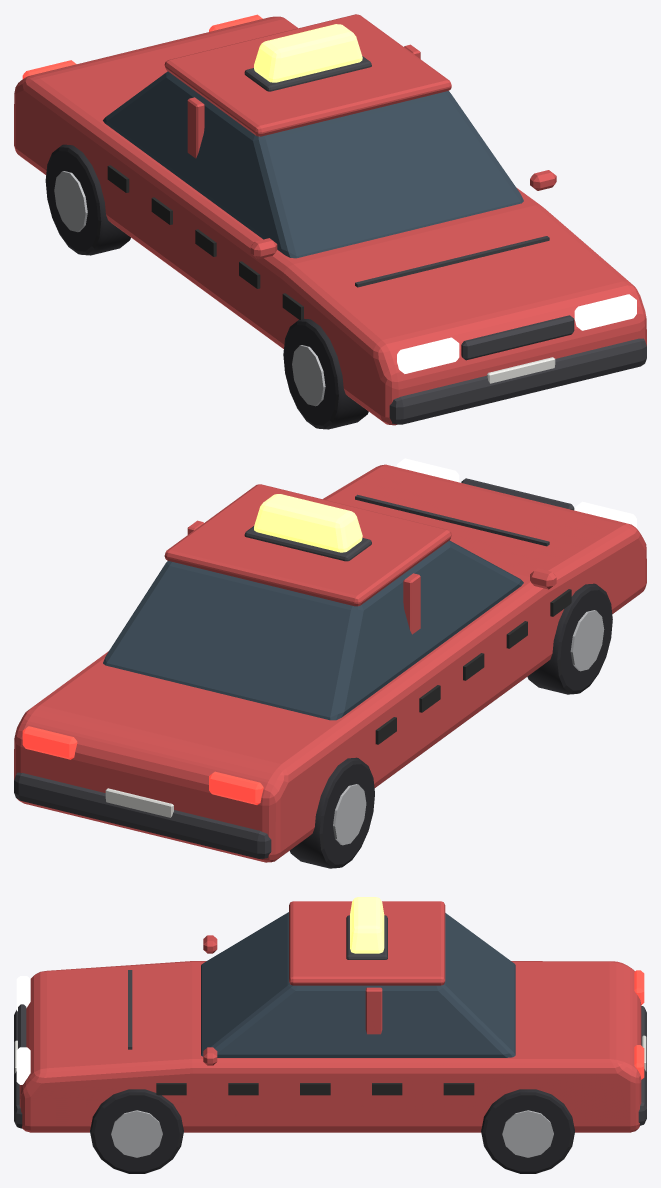
Rendered from taxi.glb.
3 renders of one model, top to bottom at view 1: azimuth 30°, elevation 25°; view 2: azimuth 150°, elevation 25°; view 3: azimuth 270°, elevation 25°, orthographic. The views are drawn at different scales.
Visible parts, largest first — view 1: Body.006, Cabin.003, Roof.003, BumperF.004, TaxiSign, Tyre1L.004, Tyre0L.004, Grille.004, HL-1.004, HL1.004, Rim1L.004, Rim0L.004 (+4 smaller); view 2: Body.006, Cabin.003, Roof.003, BumperR.004, TaxiSign, Tyre1L.004, Tyre0L.004, Rim1L.004, Rim0L.004, TL1.004, TL-1.004, Crease.001 (+6 smaller); view 3: Body.006, Cabin.003, Roof.003, Tyre1R.004, Tyre0R.004, TaxiSign, Rim0R.004, Rim1R.004, PillarB1.003, TaxiSignBase, BumperR.004, HL1.004 (+3 smaller).
Boxes of the visible parts, <box> form: Body.006: <box>14,16,646,425</box>; Cabin.003: <box>103,71,523,258</box>; Roof.003: <box>164,14,451,136</box>; BumperF.004: <box>389,338,646,424</box>; TaxiSign: <box>254,24,362,82</box>; Tyre1L.004: <box>45,144,130,255</box>; Tyre0L.004: <box>283,319,368,429</box>; Grille.004: <box>461,315,574,360</box>; HL-1.004: <box>397,337,459,373</box>; HL1.004: <box>574,294,636,330</box>; Rim1L.004: <box>54,171,87,232</box>; Rim0L.004: <box>292,345,325,406</box>; Body.006: <box>14,464,646,862</box>; Cabin.003: <box>103,540,523,720</box>; Roof.003: <box>164,484,451,606</box>; BumperR.004: <box>14,772,271,858</box>; TaxiSign: <box>254,494,362,552</box>; Tyre1L.004: <box>290,757,374,868</box>; Tyre0L.004: <box>527,583,612,694</box>; Rim1L.004: <box>333,784,366,845</box>; Rim0L.004: <box>570,610,604,671</box>; TL1.004: <box>22,726,77,759</box>; TL-1.004: <box>209,771,263,804</box>; Crease.001: <box>355,494,549,546</box>; Body.006: <box>19,961,641,1132</box>; Cabin.003: <box>201,912,515,1057</box>; Roof.003: <box>289,901,445,985</box>; Tyre1R.004: <box>481,1089,574,1173</box>; Tyre0R.004: <box>90,1089,183,1173</box>; TaxiSign: <box>350,897,384,953</box>; Rim0R.004: <box>111,1110,162,1157</box>; Rim1R.004: <box>502,1110,553,1157</box>; PillarB1.003: <box>365,987,382,1034</box>; TaxiSignBase: <box>346,915,387,959</box>; BumperR.004: <box>638,1006,646,1125</box>; HL1.004: <box>16,1047,30,1084</box>.
Size of the model in its own units: 2.08 by 1.66 by 4.58.
